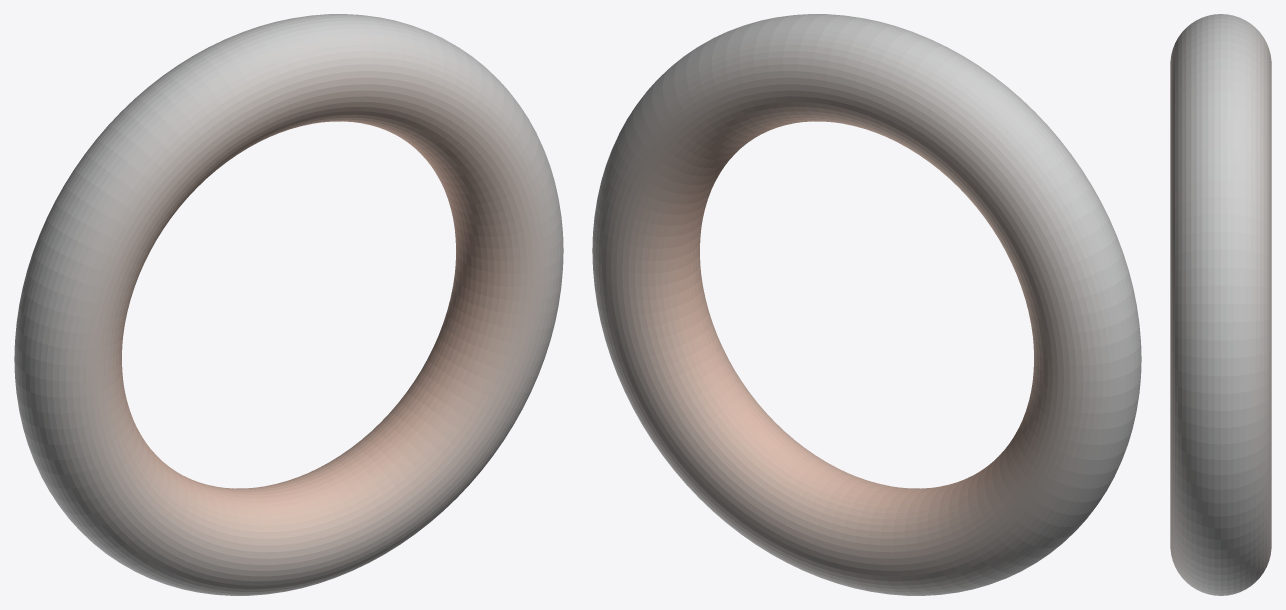
3 views of the same model, side by side, from view 1: azimuth 30°, elevation 25°; view 2: azimuth 150°, elevation 25°; view 3: azimuth 270°, elevation 25° (orthographic). The views are drawn at different scales.
Parts seen in each view (by area): view 1: world; view 2: world; view 3: world.
Boxes of the visible parts, bbox=[...] form: world: bbox=[14, 14, 563, 595]; world: bbox=[592, 14, 1141, 595]; world: bbox=[1170, 14, 1271, 595].
Bounding box in the file's own units: 29.87 × 29.87 × 5.19.
